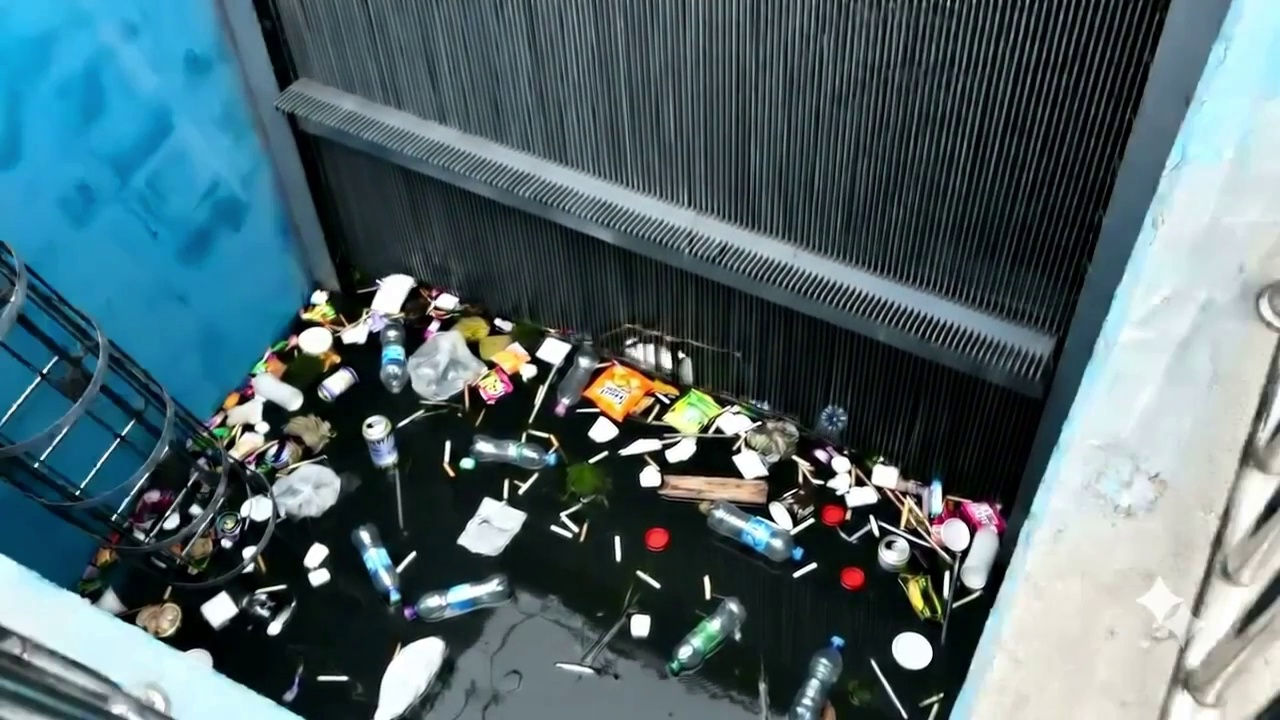debris: (251, 287, 1001, 646), (699, 501, 803, 561), (666, 598, 746, 675), (373, 637, 447, 719), (407, 330, 487, 400), (403, 573, 513, 621), (887, 491, 952, 563), (576, 592, 633, 673), (788, 637, 844, 718), (352, 524, 400, 604), (585, 364, 652, 421), (271, 464, 341, 517), (553, 346, 598, 416), (659, 475, 767, 504), (468, 435, 557, 470), (624, 338, 692, 383), (662, 389, 721, 434), (959, 525, 998, 589), (745, 420, 798, 464), (869, 658, 907, 719), (251, 373, 304, 411), (898, 575, 942, 620), (767, 488, 814, 530), (362, 415, 398, 469), (370, 273, 416, 315), (283, 415, 332, 451), (564, 462, 610, 500), (135, 602, 182, 638), (869, 465, 925, 495), (477, 334, 521, 371), (891, 632, 932, 670), (959, 501, 1005, 533), (475, 367, 514, 404), (200, 591, 237, 629), (939, 573, 957, 644), (224, 397, 265, 426), (877, 536, 910, 572), (261, 440, 301, 469), (815, 405, 848, 440), (883, 525, 932, 548), (297, 326, 333, 357), (240, 593, 277, 623), (713, 409, 755, 435), (939, 517, 970, 552), (535, 336, 572, 365), (266, 601, 296, 636), (228, 432, 265, 460), (732, 449, 767, 478), (215, 511, 243, 547), (452, 316, 489, 343), (280, 455, 327, 475), (299, 302, 338, 325), (240, 495, 273, 522), (757, 656, 771, 719), (922, 478, 943, 518), (588, 417, 619, 443), (661, 433, 723, 446), (664, 438, 696, 463), (616, 438, 663, 455), (843, 486, 879, 508), (338, 319, 369, 344), (871, 463, 899, 488), (303, 543, 328, 569), (395, 409, 427, 428), (554, 661, 597, 675), (644, 527, 669, 551), (184, 648, 213, 668), (840, 566, 864, 590), (819, 504, 845, 526), (825, 473, 852, 494), (432, 292, 460, 312), (629, 613, 651, 638), (952, 590, 982, 608), (842, 524, 870, 542), (789, 454, 813, 475), (634, 571, 660, 589), (395, 550, 415, 573), (789, 517, 814, 535), (518, 473, 538, 495), (220, 391, 242, 410), (422, 318, 441, 340), (830, 454, 852, 473), (307, 568, 330, 586), (792, 562, 817, 578), (918, 693, 944, 707), (518, 363, 538, 381), (559, 502, 584, 516), (492, 317, 514, 332), (253, 584, 286, 594), (561, 516, 580, 533), (161, 513, 180, 530), (645, 403, 661, 423), (309, 289, 329, 304), (549, 525, 572, 538), (578, 519, 590, 543), (586, 450, 608, 463), (943, 569, 952, 600), (527, 428, 552, 439), (869, 516, 880, 538), (805, 474, 825, 486), (241, 545, 257, 560), (642, 455, 659, 469), (253, 421, 270, 435), (473, 408, 486, 426), (462, 384, 470, 412), (613, 535, 621, 563), (459, 457, 476, 470), (443, 439, 451, 464), (703, 575, 711, 600), (654, 393, 672, 404), (927, 704, 940, 719), (502, 478, 510, 502), (550, 434, 560, 451), (574, 407, 600, 413)
